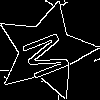M: (21, 26, 81, 82)
